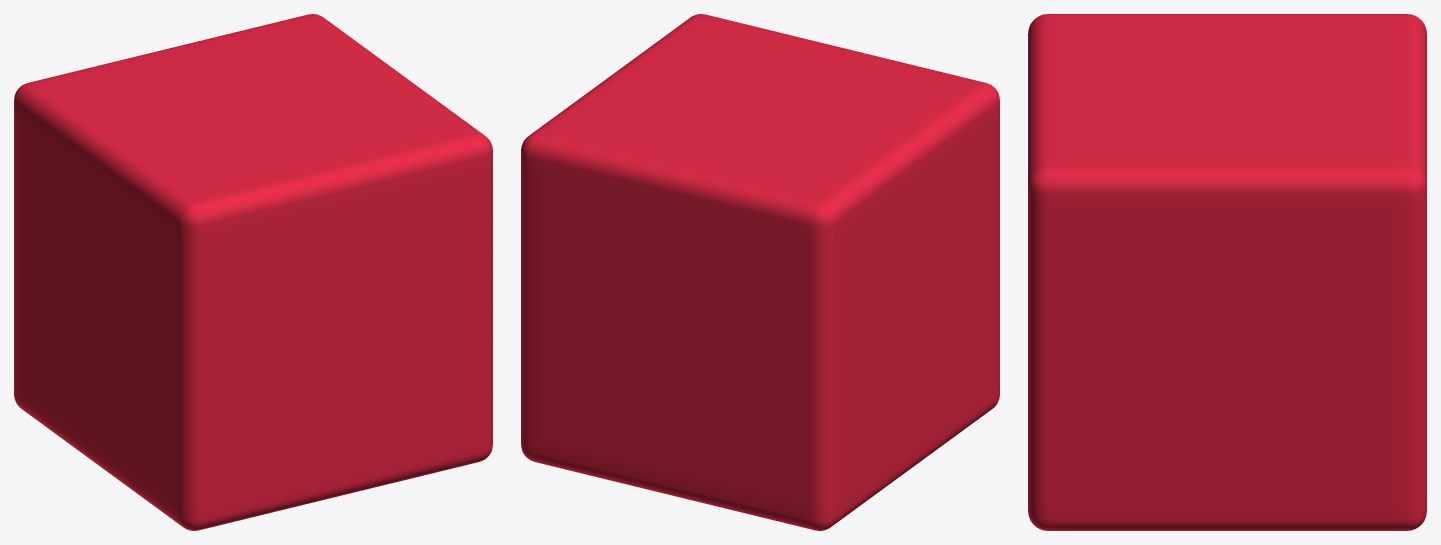
3 renders of one model, left to right at view 1: azimuth 30°, elevation 25°; view 2: azimuth 150°, elevation 25°; view 3: azimuth 270°, elevation 25°, orthographic. The views are drawn at different scales.
Visible parts, largest first — view 1: shape; view 2: shape; view 3: shape.
Boxes of the visible parts, box(x1,y1,x2,y2) form: shape: box(14, 14, 492, 530); shape: box(521, 14, 999, 530); shape: box(1028, 14, 1426, 530).
Size of the model in its own units: 2 by 2 by 2.
